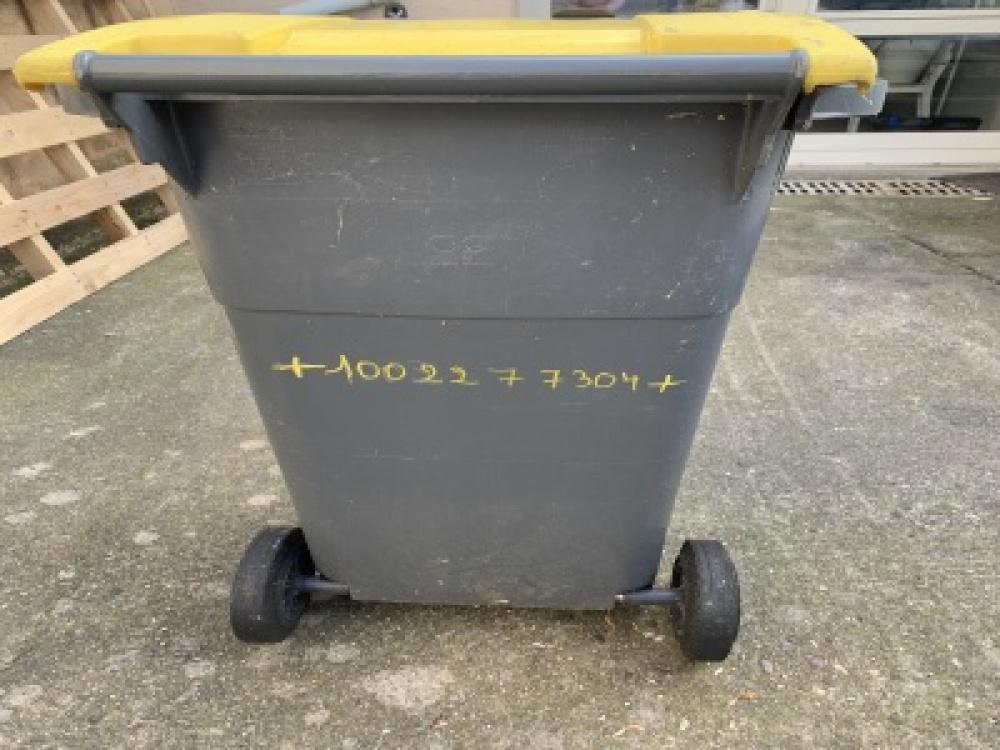+: (270, 354, 324, 378), (648, 372, 685, 397)
0: (384, 360, 406, 386), (593, 372, 618, 393), (358, 360, 382, 380)
1: (326, 354, 353, 381)
2: (415, 362, 444, 388), (448, 364, 478, 388)
3: (572, 366, 594, 390)
4: (620, 372, 644, 395)
7: (487, 366, 526, 388), (537, 368, 567, 393)
